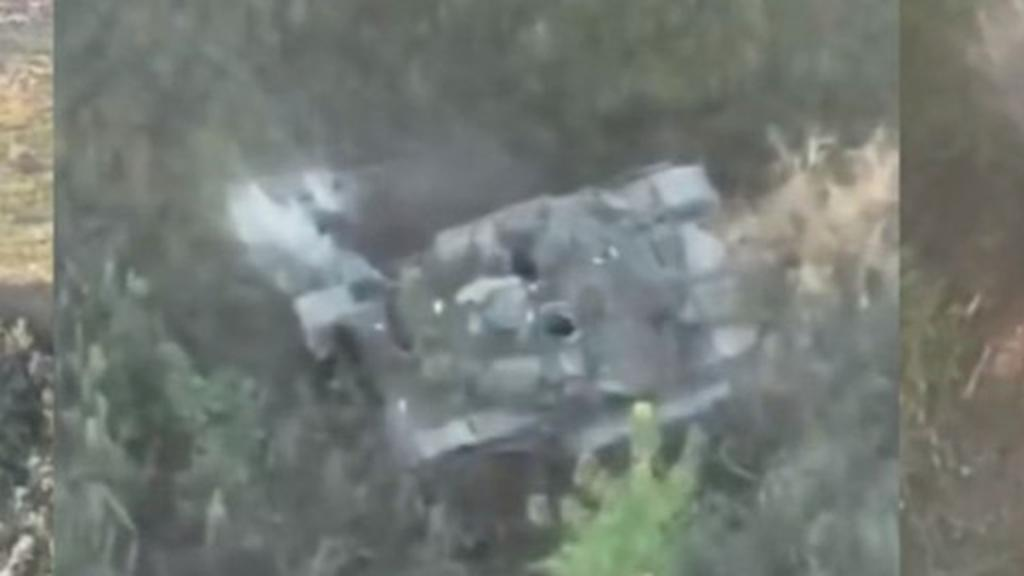TANK: (292, 140, 800, 520)
